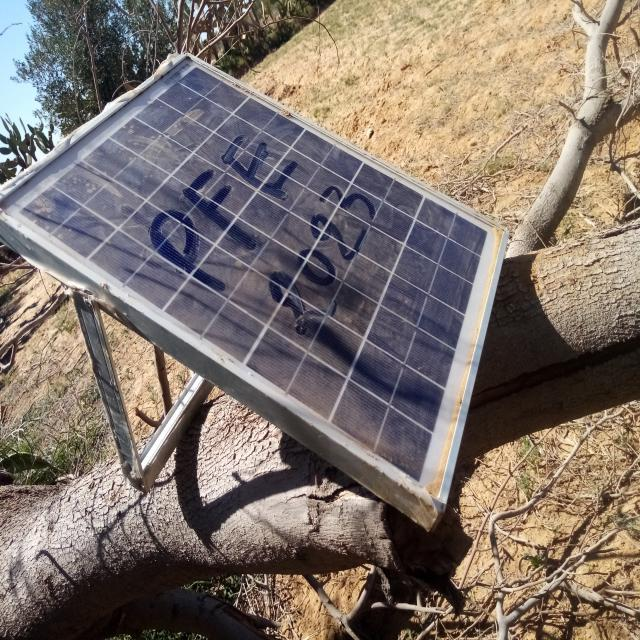faulty: (0, 51, 508, 511)
